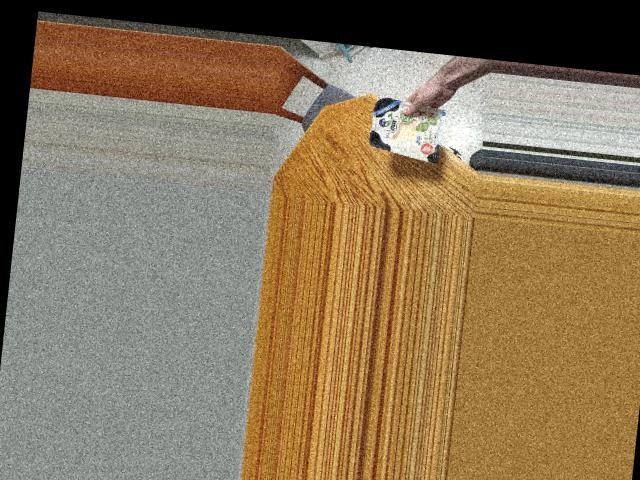cheese: (357, 92, 454, 164)
